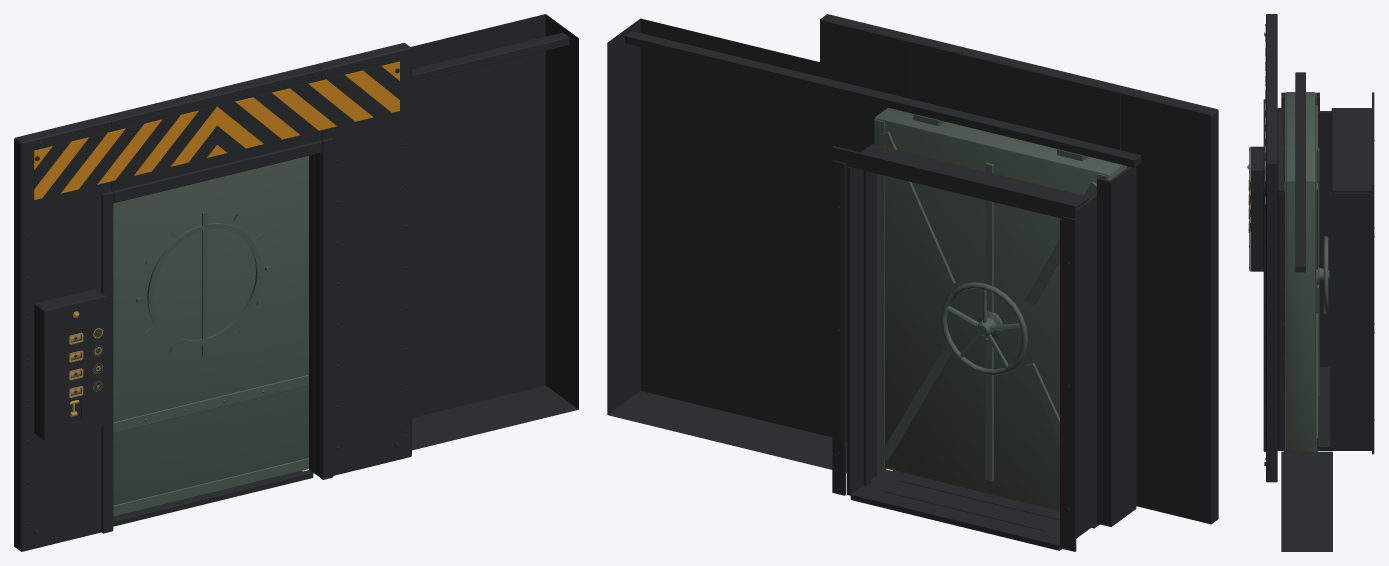
File: blast_door.glb
3 renders of one model, left to right at view 1: azimuth 30°, elevation 25°; view 2: azimuth 150°, elevation 25°; view 3: azimuth 270°, elevation 25°, orthographic. The views are drawn at different scales.
Parts seen in each view (by area): view 1: door_frame, IA_blast_door, IA_door_tunnel; view 2: door_frame, IA_blast_door, IA_door_tunnel; view 3: IA_door_tunnel, door_frame, IA_blast_door.
Part boxes in pixels (<box>): door_frame: <box>14,14,578,551</box>; IA_blast_door: <box>113,155,308,516</box>; IA_door_tunnel: <box>113,154,314,526</box>; door_frame: <box>607,14,1218,524</box>; IA_blast_door: <box>874,108,1127,510</box>; IA_door_tunnel: <box>832,144,1136,551</box>; IA_door_tunnel: <box>1277,92,1374,454</box>; door_frame: <box>1248,14,1332,551</box>; IA_blast_door: <box>1284,92,1329,452</box>.
Size of the model in its own units: 4.35 by 3.05 by 1.09.
